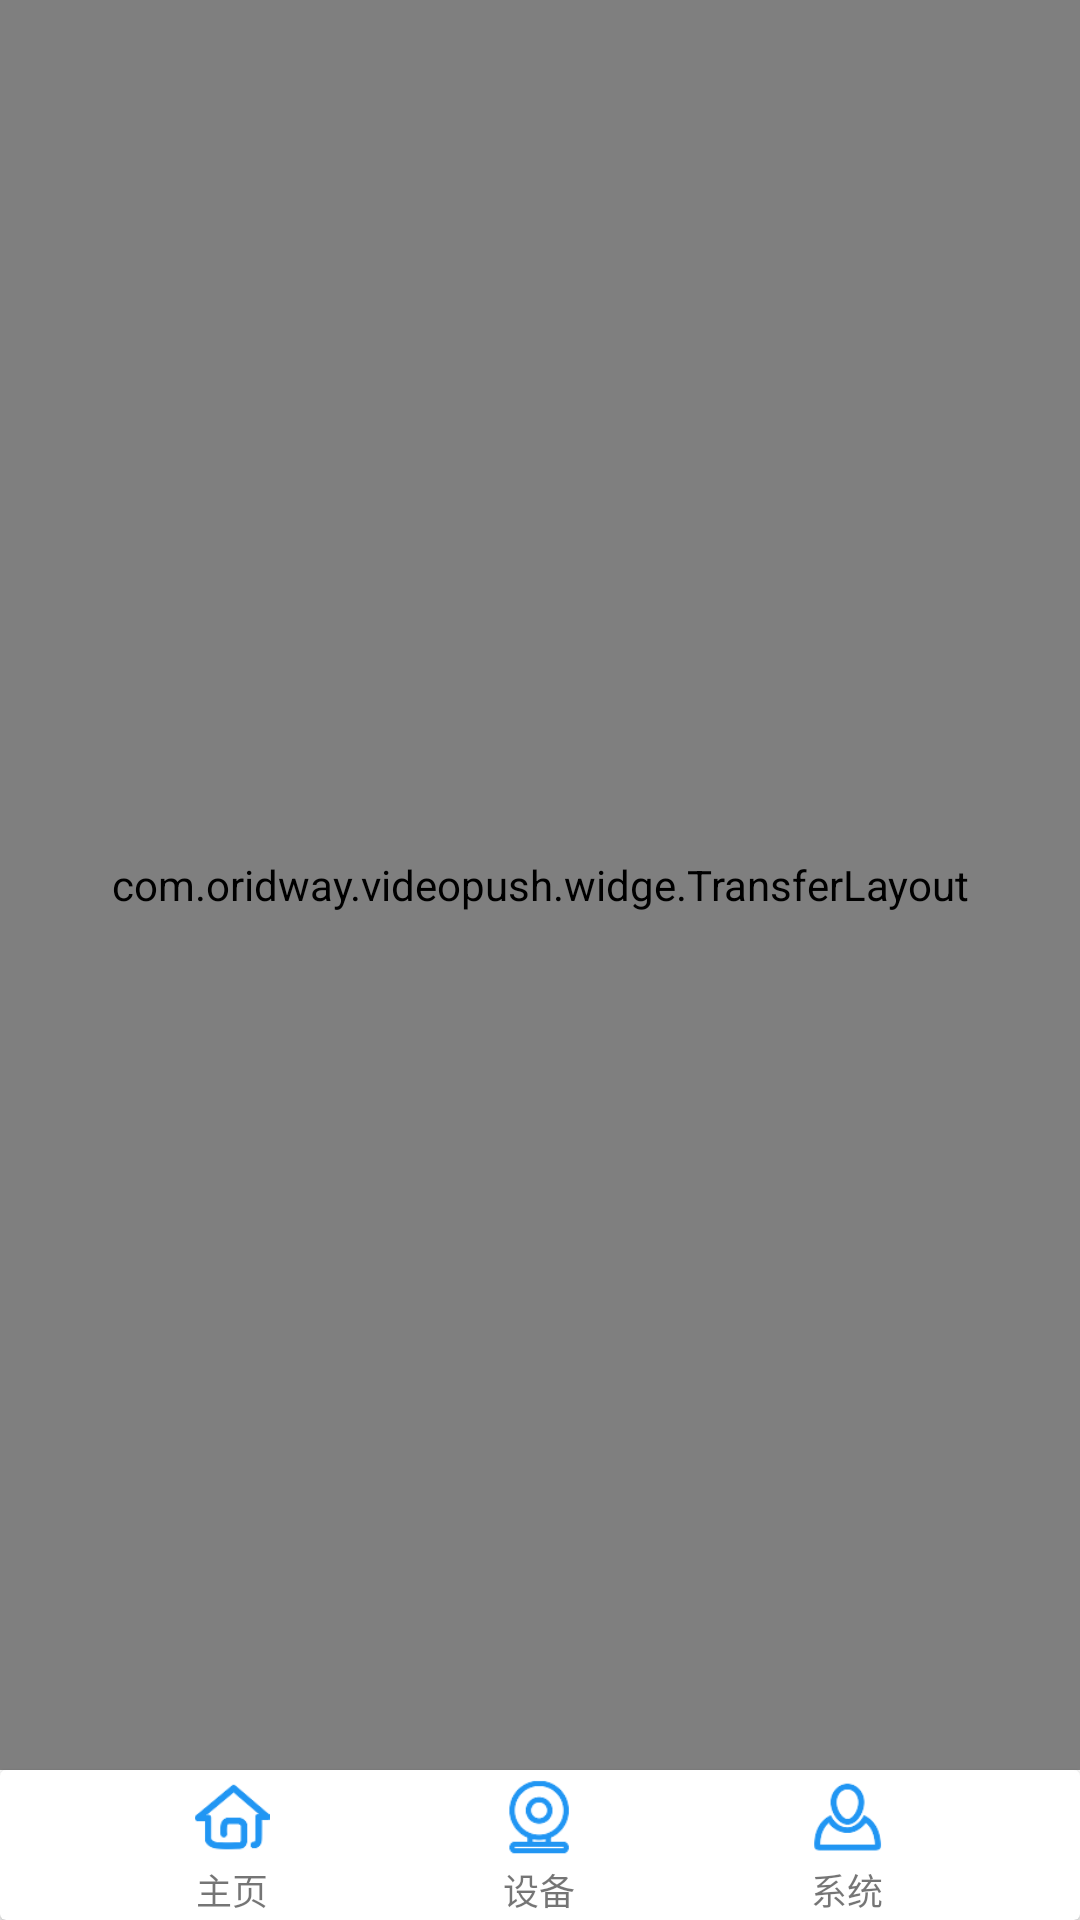

Screen size 1080 × 1920. Icon name, then its center in pixels as [x,y]:
camera check: [539,1817]
